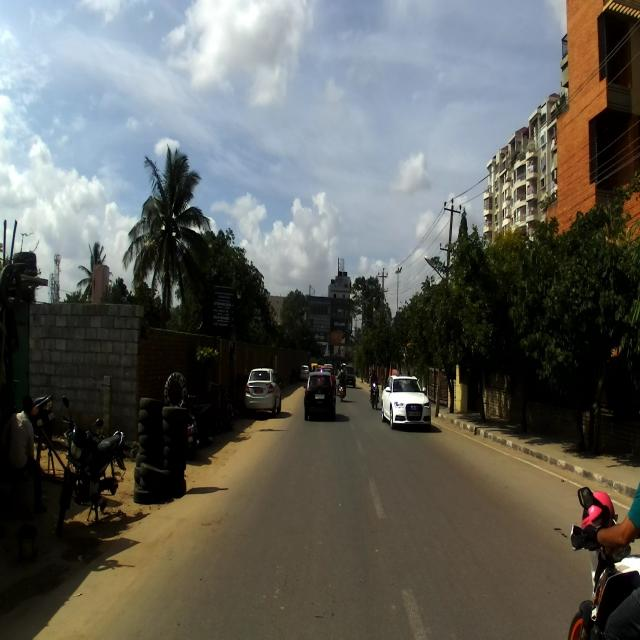car: (381, 372, 432, 430), (244, 366, 281, 420)
motorcycle: (568, 487, 640, 640)
